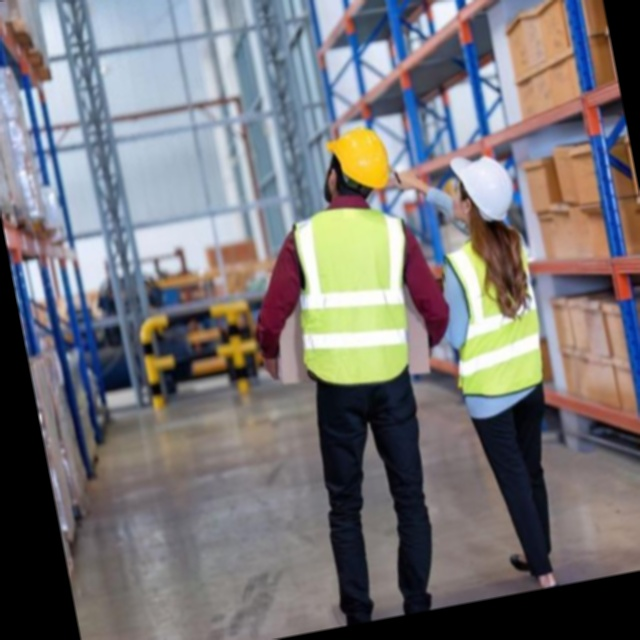Con_Casco: (431, 148, 524, 245)
Con_Chaleco: (285, 195, 429, 400), (432, 229, 555, 407)
